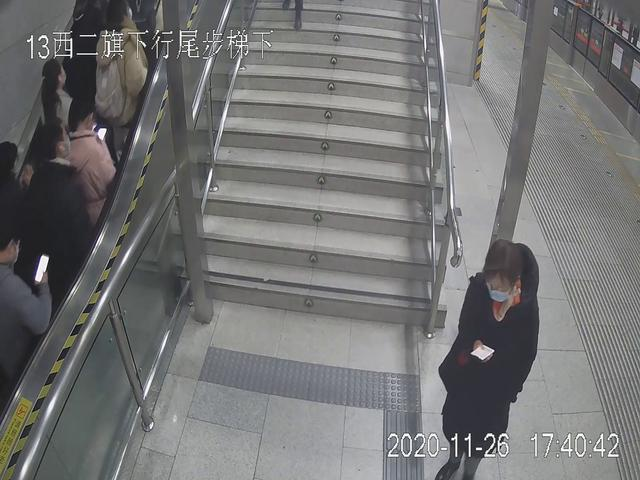person: (422, 239, 542, 479), (25, 120, 90, 287)
